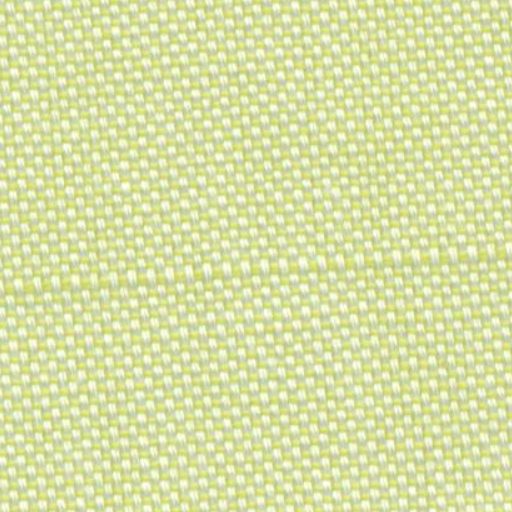TuoSha: (16, 218, 500, 304)
